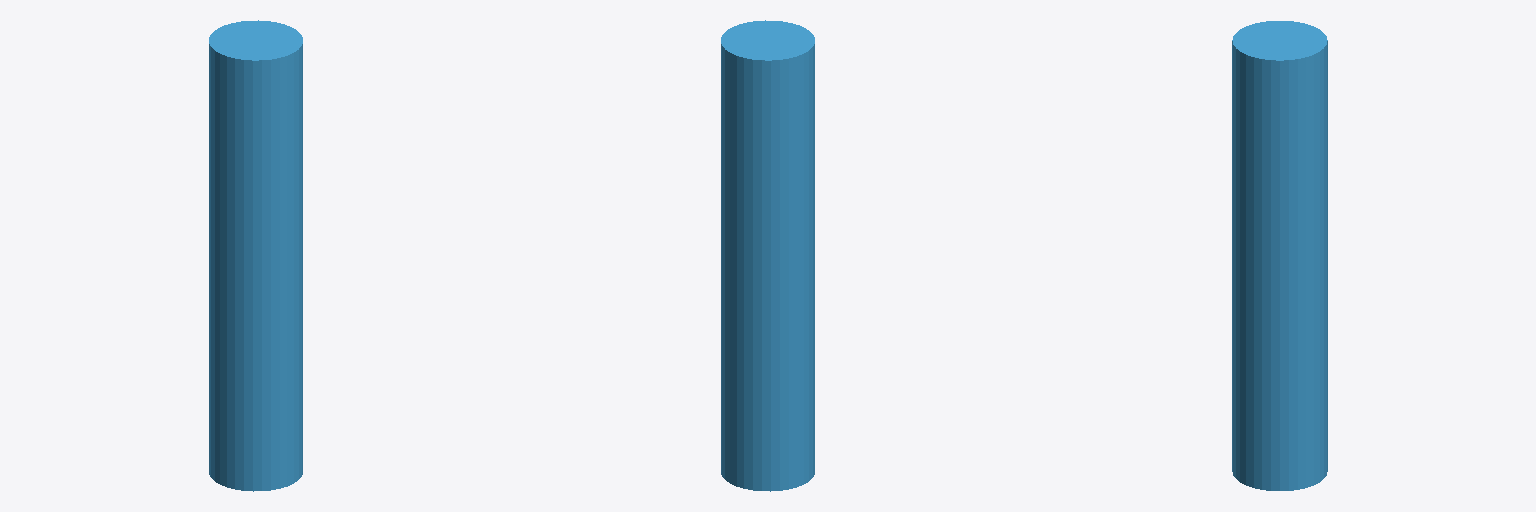
robot.urdf — Simple_Pendulum:
<?xml version="1.0"?>
<!-- created with Phobos 0.7 -->
  <robot name="Simple_Pendulum">

    <link name="Base_Root">
    </link>

    <link name="q_1">
      <inertial>
        <origin xyz="0 0.5 -2e-08" rpy="0 0 0"/>
        <mass value="1.0"/>
        <inertia ixx="0.08583" ixy="0" ixz="0" iyy="0.08583" iyz="0" izz="0.005"/>
      </inertial>
      <visual name="Visual_Shape">
        <origin xyz="0 0.5 -2e-08" rpy="-1.57079637 0 0"/>
        <geometry>
          <cylinder radius="0.1" length="1.0"/>
        </geometry>
      </visual>
      <collision name="Visual_Shape">
        <origin xyz="0 0.5 -2e-08" rpy="-1.57079637 0 0"/>
        <geometry>
          <cylinder radius="0.1" length="1.0"/>
        </geometry>
      </collision>
    </link>

    <joint name="q_1" type="revolute">
      <origin xyz="0 0 0" rpy="1.57079637 0 0"/>
      <parent link="Base_Root"/>
      <child link="q_1"/>
      <axis xyz="0 0 1.0"/>
      <limit lower="-1.5" upper="1.5" effort="0.0" velocity="3.1400001"/>
    </joint>

  </robot>

--- Render facts (derived) ---
3 views of the same robot in one strip: view 1: azimuth 30°, elevation 25°; view 2: azimuth 150°, elevation 25°; view 3: azimuth 270°, elevation 25° (orthographic).
Model Simple_Pendulum with 2 links and 1 joints (1 revolute), rooted at Base_Root, posed every joint at zero.
Visible links, largest first — view 1: q_1; view 2: q_1; view 3: q_1.
Boxes of the visible links, box(x1,y1,x2,y2) form: q_1: box(209, 20, 302, 491); q_1: box(721, 20, 814, 491); q_1: box(1232, 21, 1327, 490).
Bounding box of the posed robot: 0.2 × 0.2 × 1 m (x, y, z).
Geometry: primitives only (box / cylinder / sphere), no mesh files.